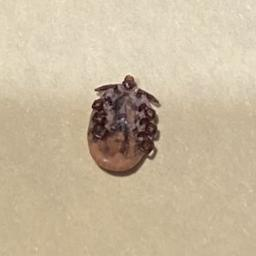Rhipicephalus sanguineus: (85, 74, 161, 174)
